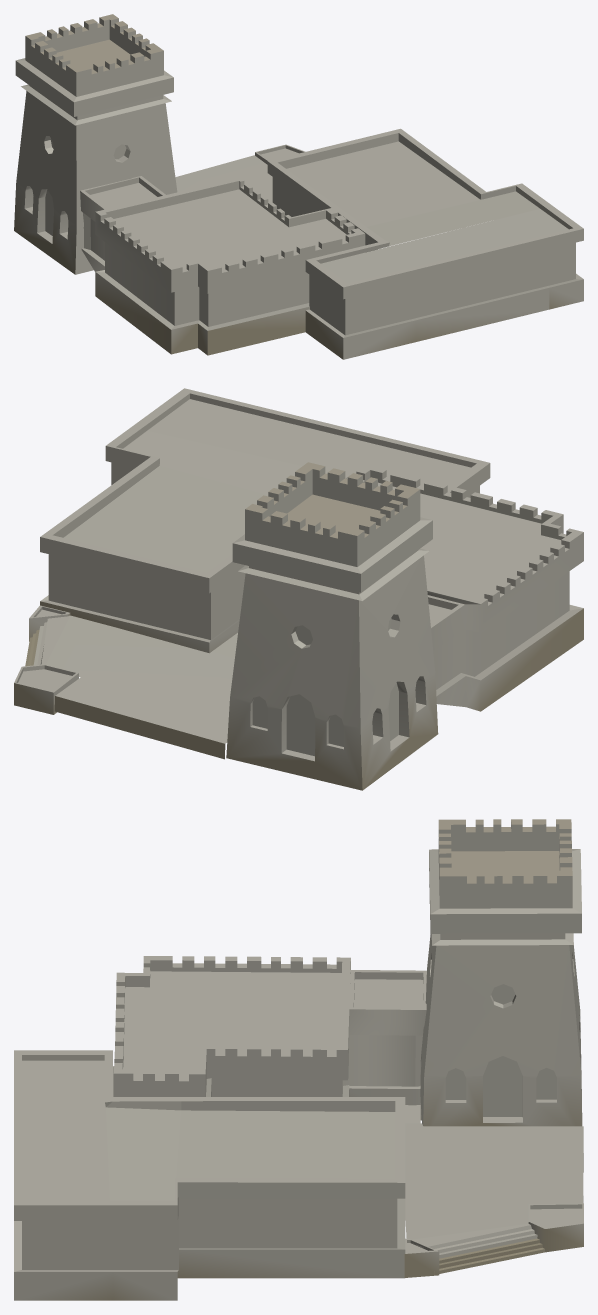
3 views of the same model, one above another, from view 1: azimuth 30°, elevation 25°; view 2: azimuth 150°, elevation 25°; view 3: azimuth 270°, elevation 25° (orthographic). The views are drawn at different scales.
Parts seen in each view (by area): view 1: pCube95:PIV; view 2: pCube95:PIV; view 3: pCube95:PIV.
Boxes of the visible parts, left/top/right/bottom form: pCube95:PIV: left=14, top=14, right=583, bottom=359; pCube95:PIV: left=14, top=388, right=583, bottom=790; pCube95:PIV: left=14, top=819, right=583, bottom=1300.
Bounding box in the file's own units: 23.85 × 12.33 × 24.54.
